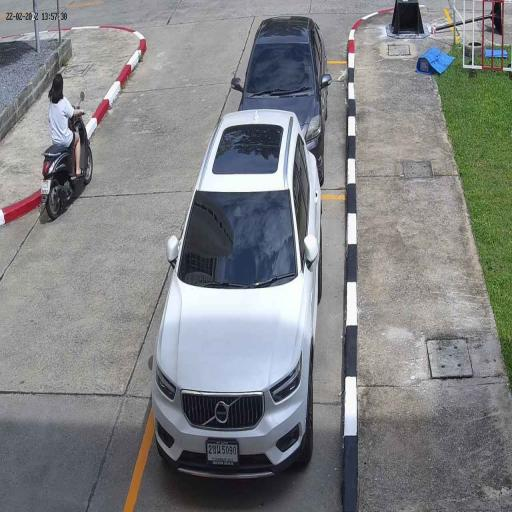car: (152, 108, 322, 484), (236, 16, 326, 186)
motorcycle: (38, 145, 94, 221)
